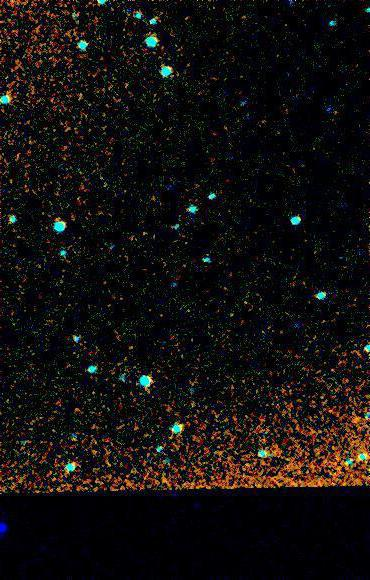star: (341, 406, 370, 436)
